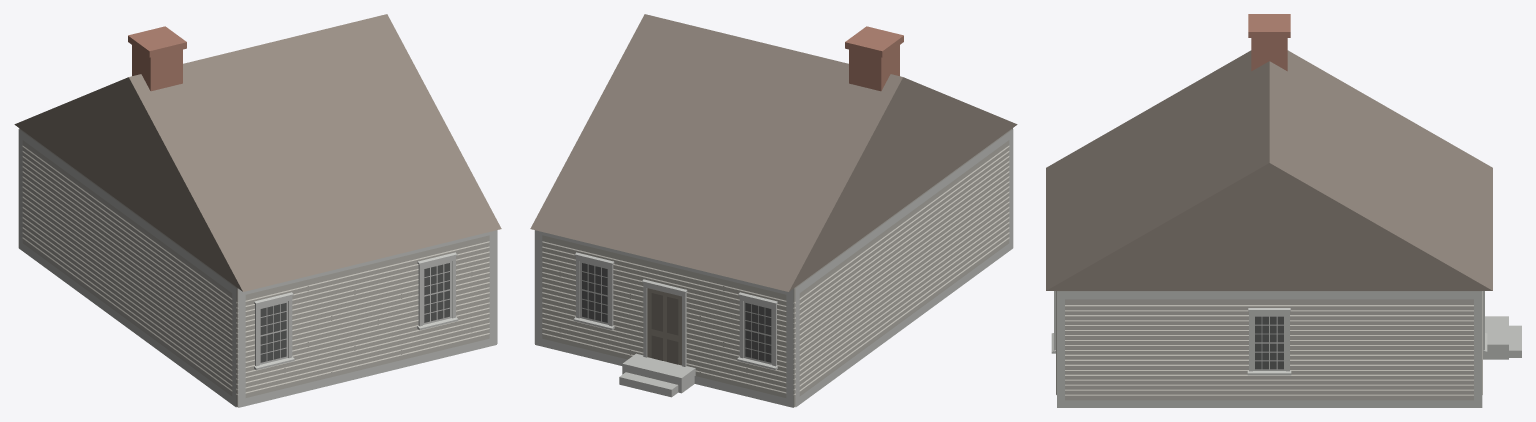
Rendered from recon_1835_blk_school_section_tier_118_d5_07__inferred_1835.glb.
The picture shows the model from 3 angles, left to right: view 1: azimuth 30°, elevation 25°; view 2: azimuth 150°, elevation 25°; view 3: azimuth 270°, elevation 25°; orthographic projection. The views are drawn at different scales.
Parts seen in each view (by area): view 1: recon_1835_blk_school_section_tier_118_d5_07__inferred_1835; view 2: recon_1835_blk_school_section_tier_118_d5_07__inferred_1835; view 3: recon_1835_blk_school_section_tier_118_d5_07__inferred_1835.
Part boxes in pixels (x1=…): recon_1835_blk_school_section_tier_118_d5_07__inferred_1835: x1=14, y1=14, x2=501, y2=407; recon_1835_blk_school_section_tier_118_d5_07__inferred_1835: x1=530, y1=14, x2=1017, y2=407; recon_1835_blk_school_section_tier_118_d5_07__inferred_1835: x1=1046, y1=14, x2=1521, y2=407.
Bounding box in the file's own units: 6.9 × 7.03 × 11.02.
